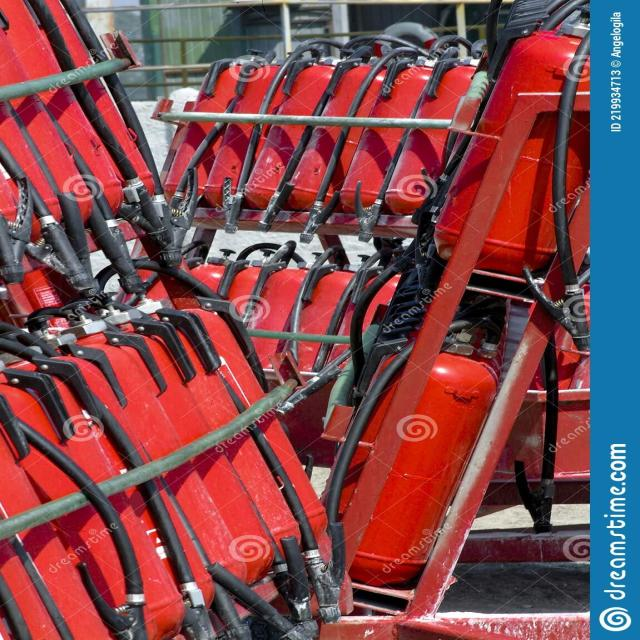fire_extinguisher: (329, 312, 517, 586), (432, 0, 594, 291), (237, 39, 373, 216), (379, 35, 508, 216), (331, 43, 466, 214), (278, 44, 414, 212), (191, 50, 323, 213), (152, 56, 271, 204), (234, 243, 340, 389), (202, 248, 301, 389), (272, 244, 381, 372)
